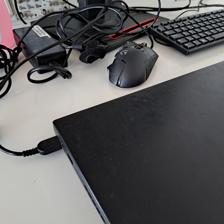mouse: (105, 42, 159, 88)
